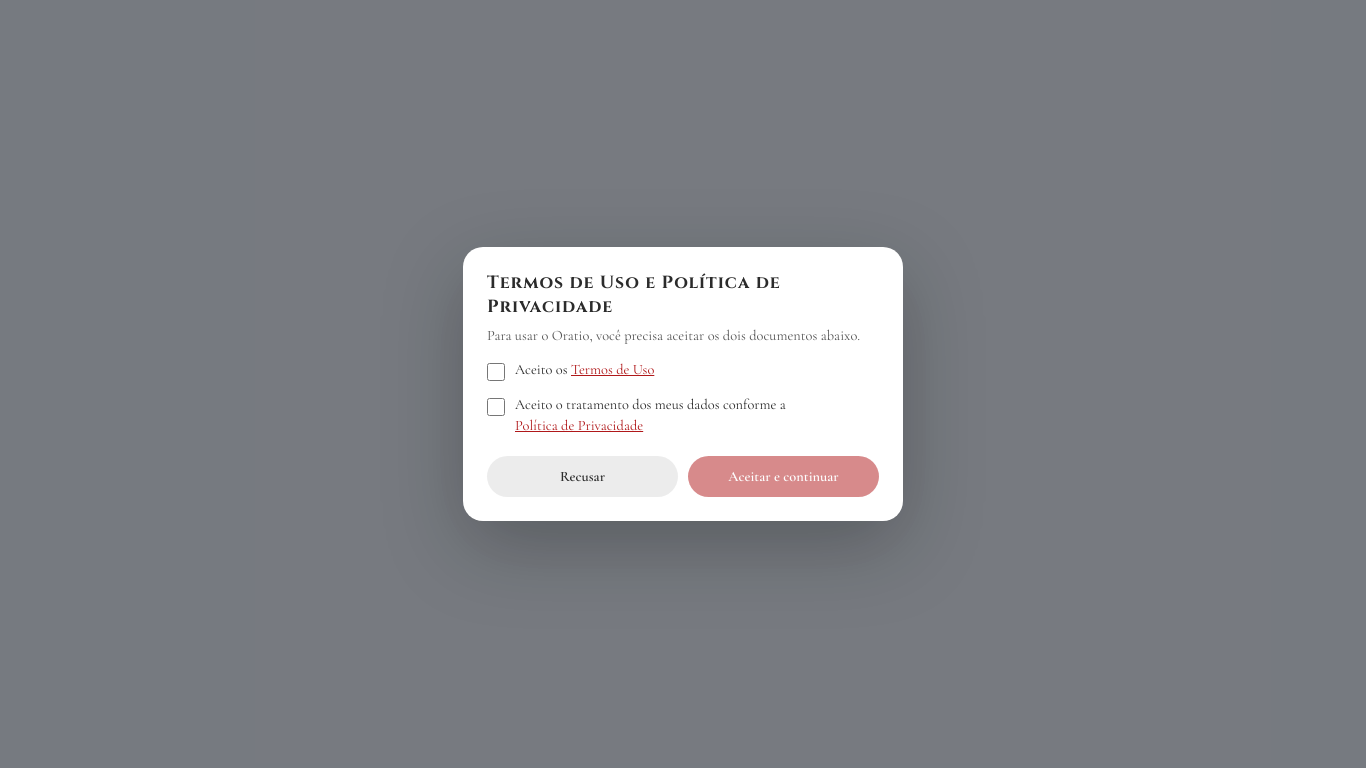
Test: LegalConsentGate — gate de habilitação do botão › habilita quando as duas estão marcadas
Click the checkbox labelled "Aceito os Termos de Uso" at [496, 372], box [487,363,505,381]
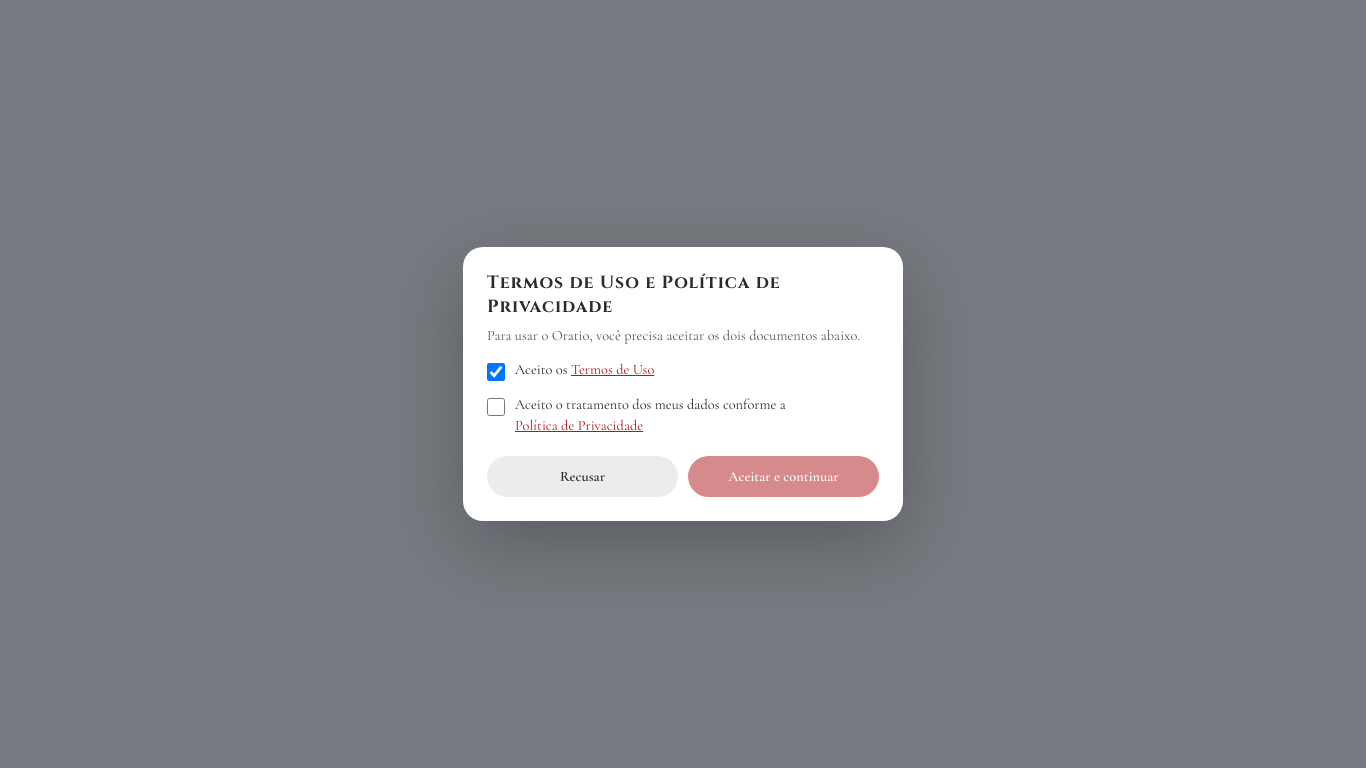
Click the checkbox labelled "Política de Privacidade" at [496, 407], box [487,398,505,416]
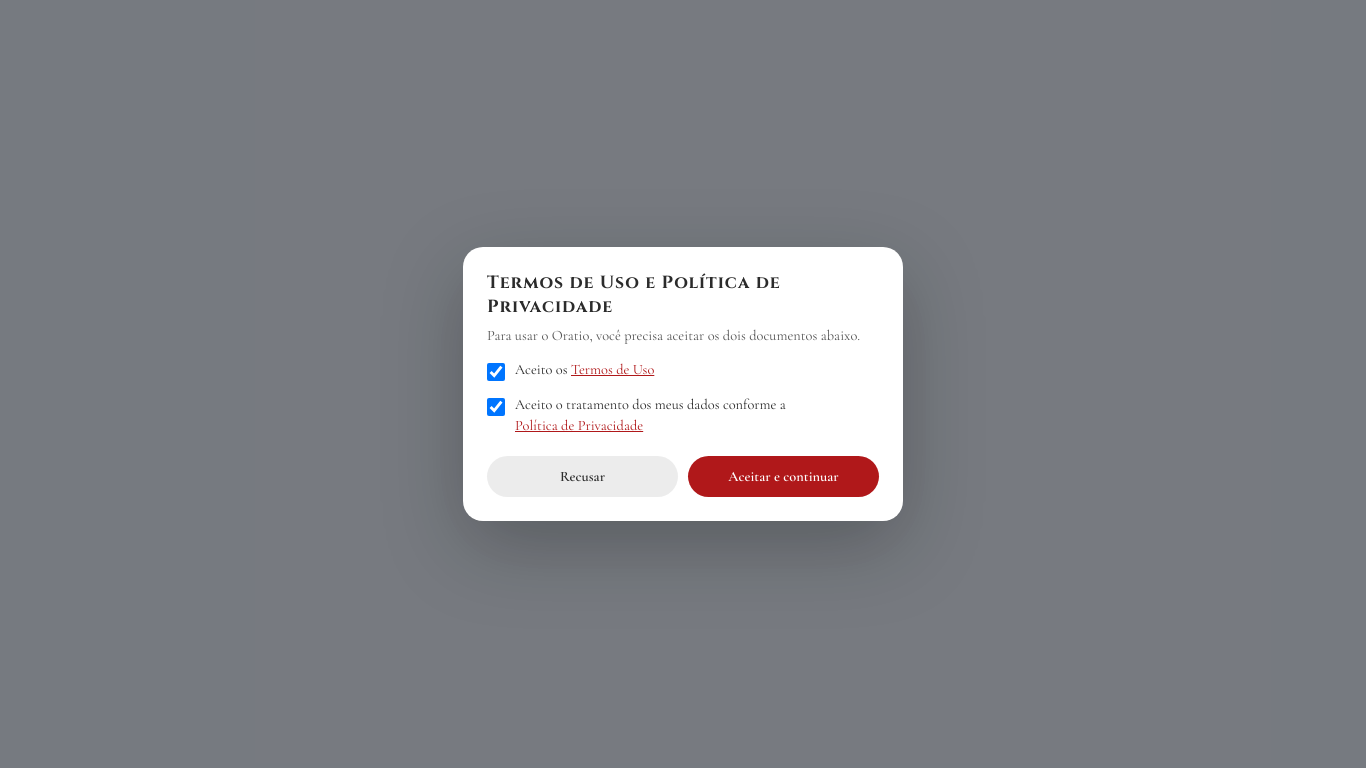
Result: the button "Aceitar e continuar" is enabled at [688,456,879,497]
